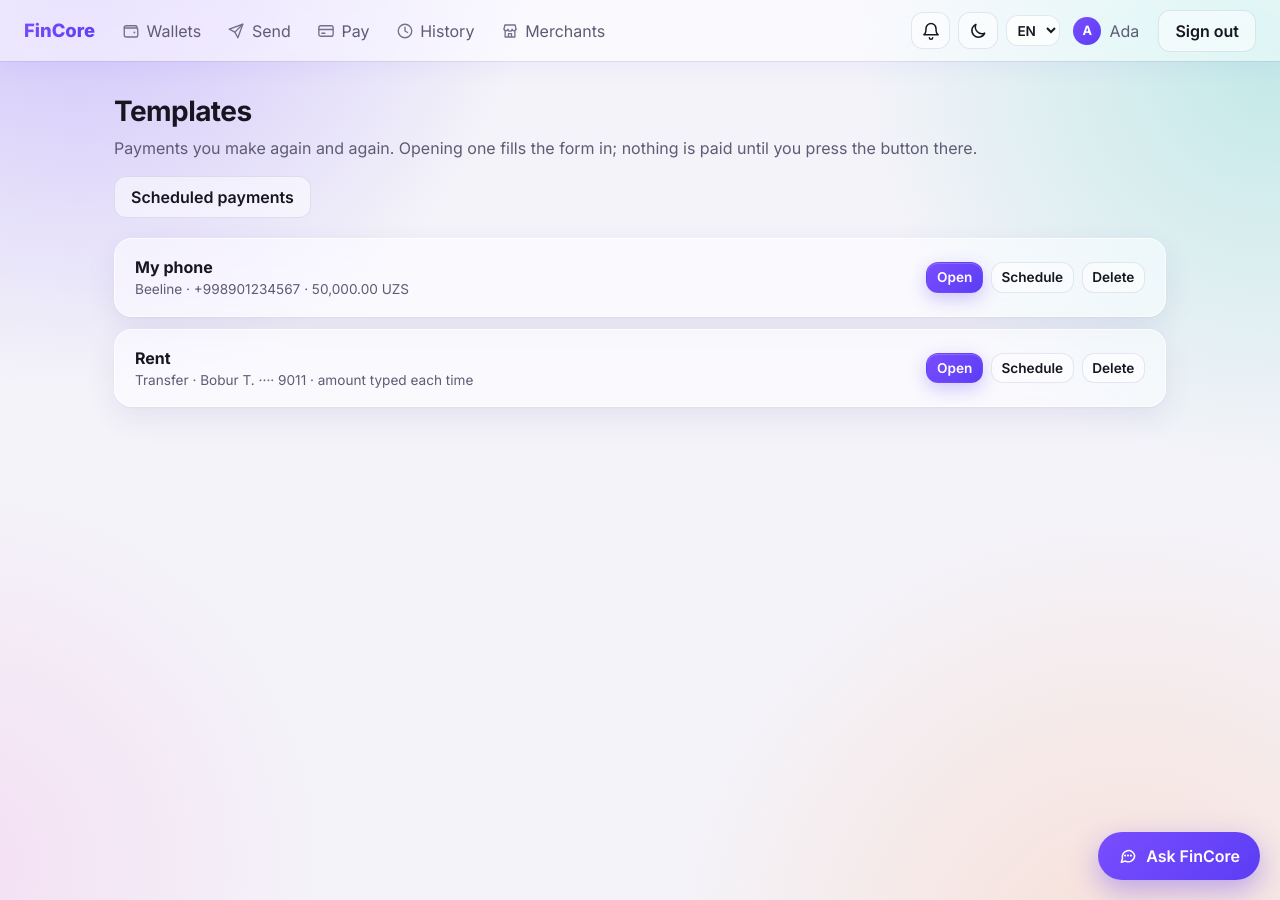
Test: the templates page › lists every template and deletes one on the second press
Step 1. Click the button "Delete" in the row of "Rent" → (1113, 368), box [1082, 353, 1145, 383]
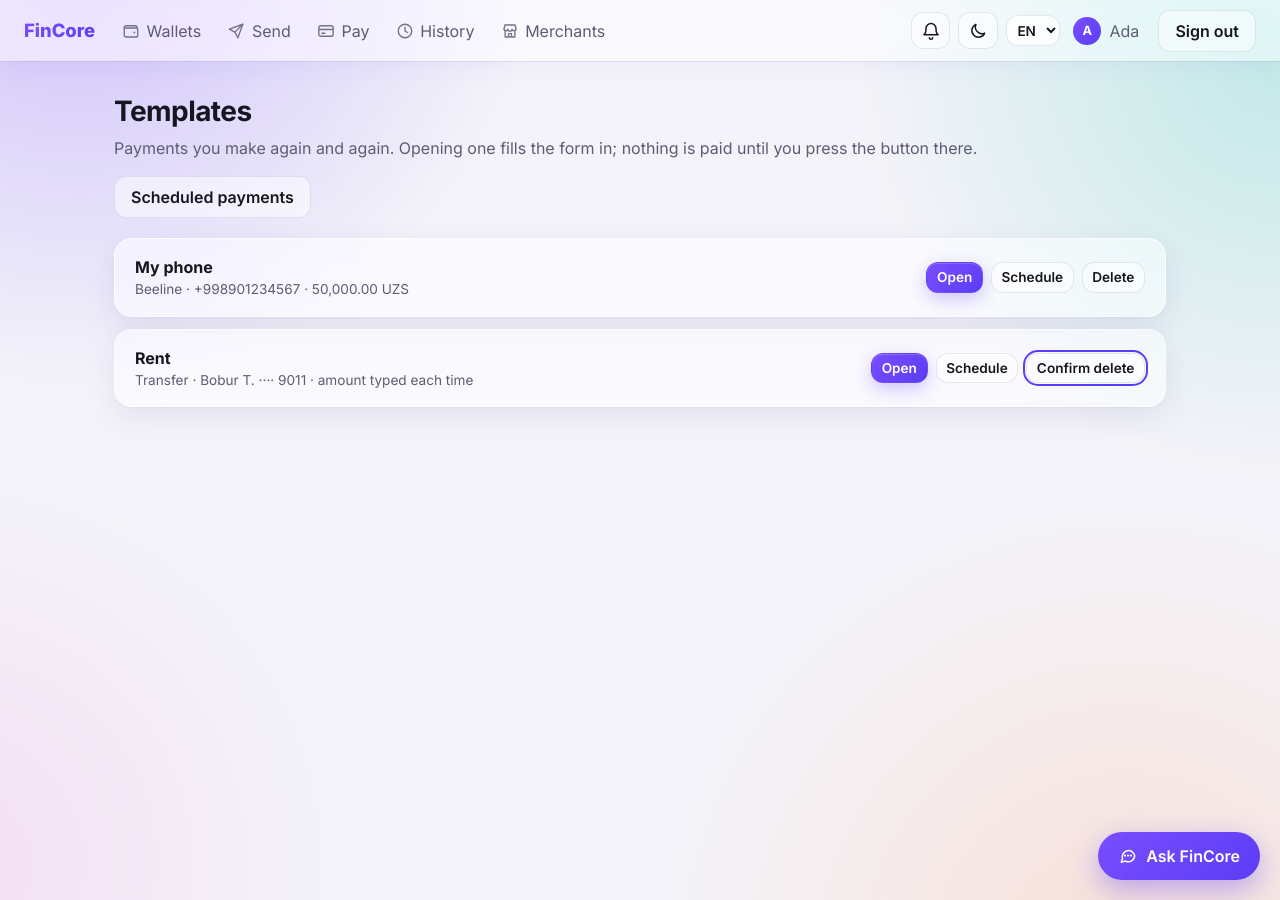
Step 2. Click the button "Confirm delete" → (1086, 368), box [1026, 353, 1145, 383]
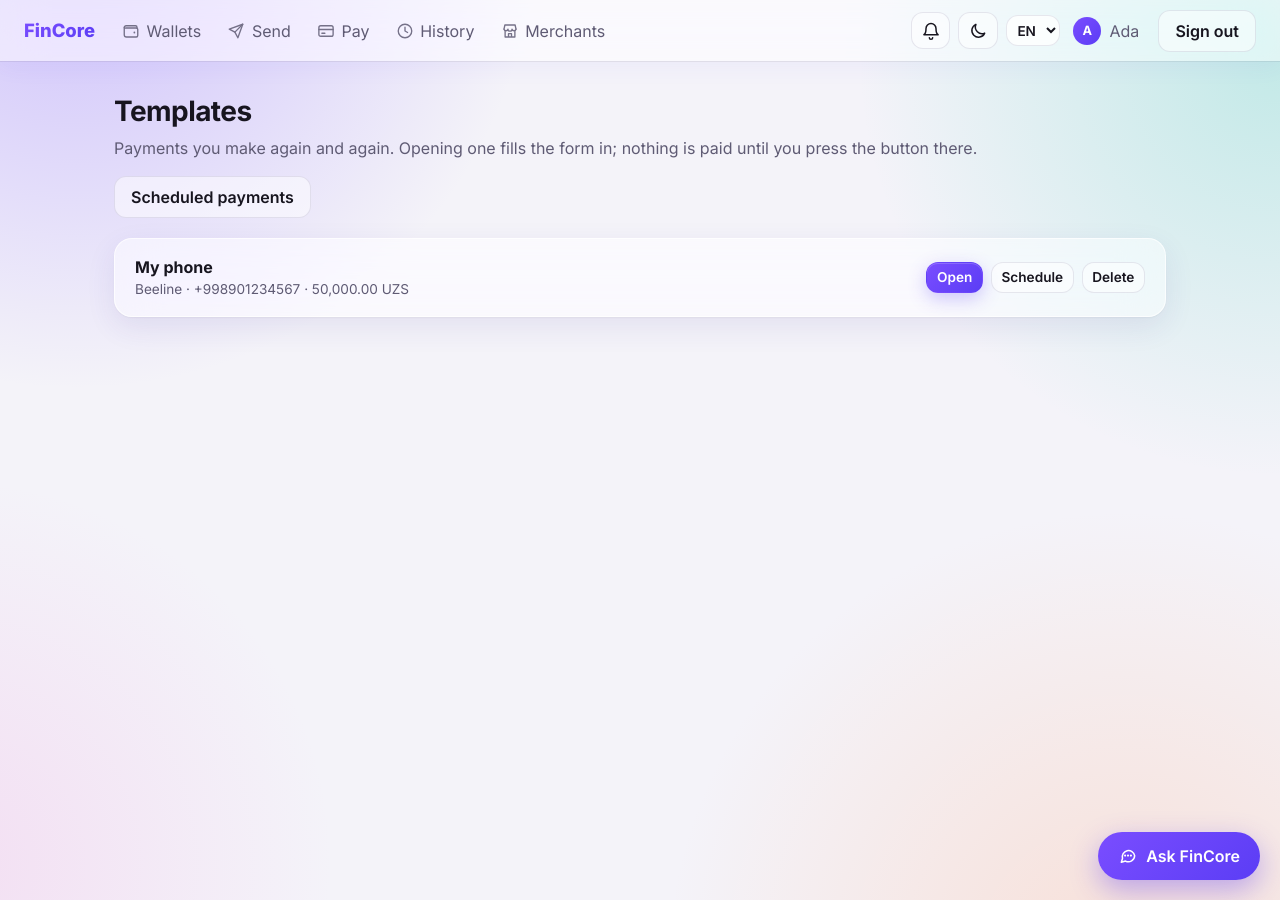
Check: the text "My phone" is shown, box [135, 257, 213, 277]
Check: the text "Rent" is gone
